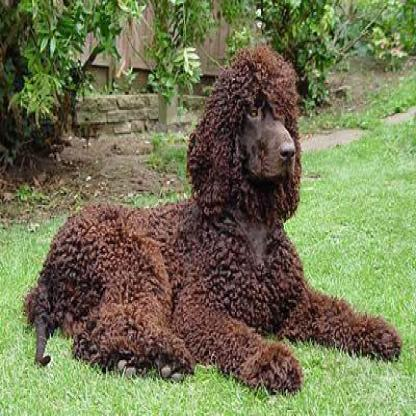Irish_water_spaniel: (20, 42, 402, 398)
